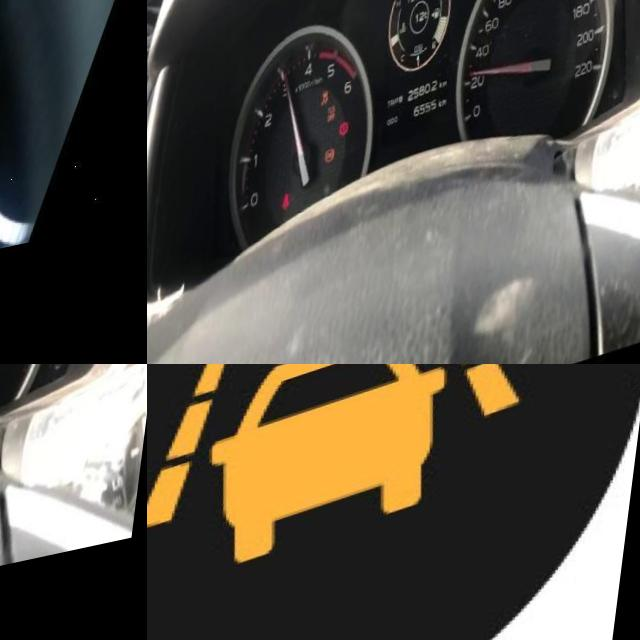Seat Belt: (291, 199, 302, 221)
